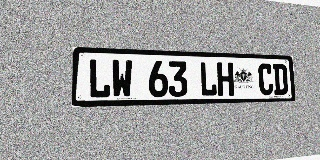3: (168, 61, 187, 97)
6: (149, 60, 168, 97)
C: (258, 63, 274, 95)
D: (273, 64, 288, 95)
H: (217, 62, 234, 96)
L: (88, 59, 111, 98), (199, 62, 217, 96)
W: (111, 59, 133, 98)
